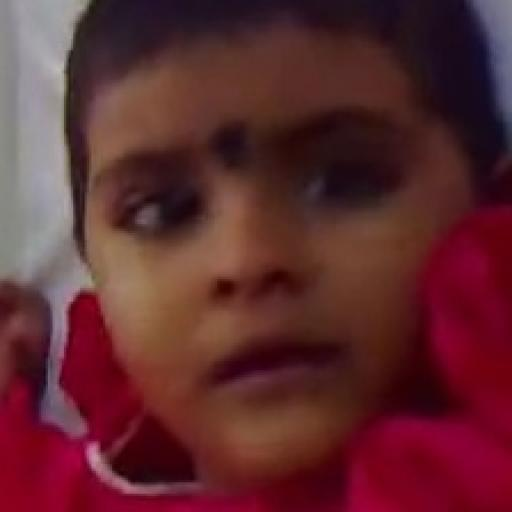Autism: (75, 32, 504, 512)
